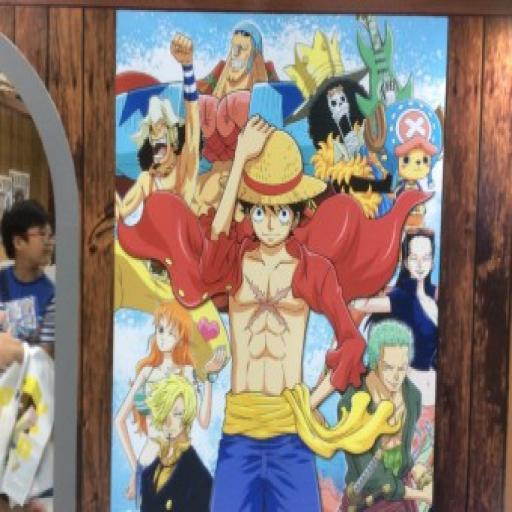Luffy: (218, 131, 315, 252)
Nami: (149, 298, 195, 366)
NicoRobin: (394, 224, 436, 303)
Usopp: (137, 89, 186, 182)
Zoro: (362, 323, 422, 399)
sanji: (139, 369, 204, 451)
